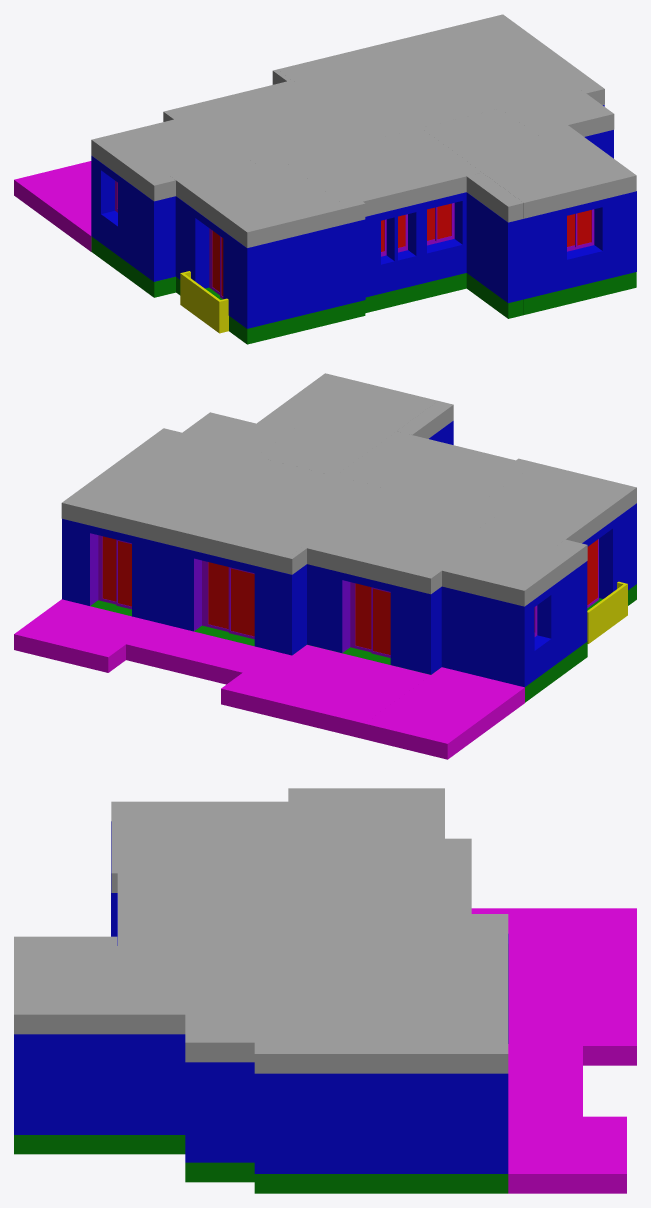
File: Floorplan.fbx
The picture shows the model from 3 angles, top to bottom: view 1: azimuth 30°, elevation 25°; view 2: azimuth 150°, elevation 25°; view 3: azimuth 270°, elevation 25°; orthographic projection. The views are drawn at different scales.
Parts seen in each view (by area): view 1: Roof, OuterWallPlanarZ, OuterWallPlanarX, Floors_GRP, CornerWallBath01, FrenchBalcony1, FrenchBalcony2, WindowLeftBed03, WindowLeftBed04, DoorRightBed02; view 2: Roof, Floors_GRP, OuterWallPlanarZ, OuterWallPlanarX, LargeBalconyDoorLeft, LargeBalconyDoorRight, DoorLeftBed01, DoorRightBed01, KitchenDoorLeft, KitchenDoorRight, FrenchBalcony2, DoorLeftBed02 (+1 smaller); view 3: Roof, OuterWallPlanarX, Floors_GRP, OuterWallPlanarZ.
Part boxes in pixels (left/top/right/bottom): Roof: left=91, top=14, right=636, bottom=247; OuterWallPlanarZ: left=246, top=105, right=636, bottom=324; OuterWallPlanarX: left=91, top=132, right=613, bottom=328; Floors_GRP: left=14, top=161, right=636, bottom=344; CornerWallBath01: left=154, top=196, right=175, bottom=281; FrenchBalcony1: left=180, top=289, right=228, bottom=333; FrenchBalcony2: left=180, top=272, right=221, bottom=317; WindowLeftBed03: left=435, top=203, right=452, bottom=241; WindowLeftBed04: left=575, top=209, right=592, bottom=247; DoorRightBed02: left=211, top=229, right=219, bottom=294; Roof: left=61, top=373, right=636, bottom=606; Floors_GRP: left=14, top=584, right=636, bottom=759; OuterWallPlanarZ: left=62, top=503, right=636, bottom=684; OuterWallPlanarX: left=276, top=421, right=636, bottom=687; LargeBalconyDoorLeft: left=228, top=567, right=254, bottom=639; LargeBalconyDoorRight: left=206, top=561, right=228, bottom=631; DoorLeftBed01: left=371, top=587, right=390, bottom=657; DoorRightBed01: left=353, top=583, right=371, bottom=652; KitchenDoorLeft: left=116, top=539, right=131, bottom=609; KitchenDoorRight: left=101, top=536, right=116, bottom=604; FrenchBalcony2: left=587, top=583, right=627, bottom=628; DoorLeftBed02: left=587, top=539, right=598, bottom=607; Roof: left=14, top=788, right=508, bottom=1073; OuterWallPlanarX: left=14, top=934, right=508, bottom=1173; Floors_GRP: left=14, top=908, right=636, bottom=1193; OuterWallPlanarZ: left=14, top=821, right=508, bottom=1173.
Bounding box in the file's own units: 1448 × 355 × 1434.
